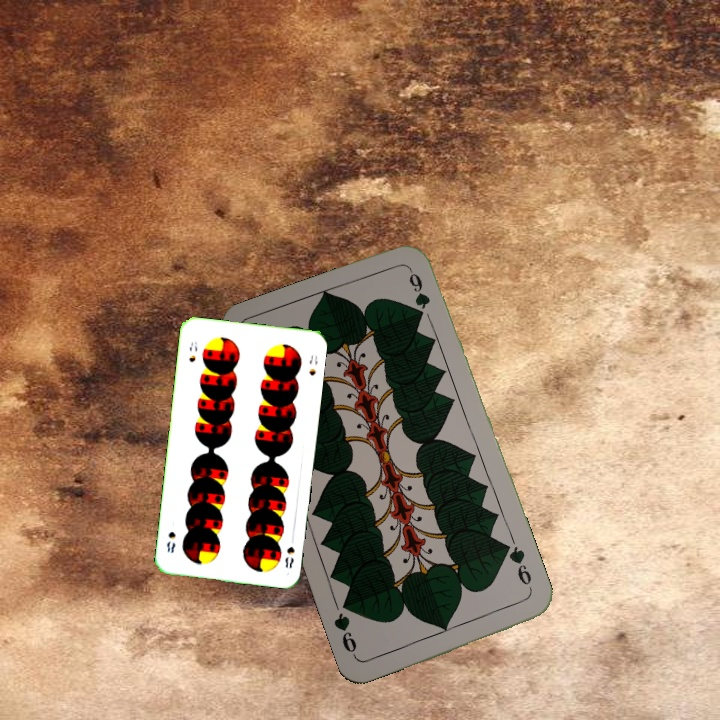G9: (502, 541, 536, 596)
S8: (281, 542, 297, 571), (185, 338, 200, 364)
